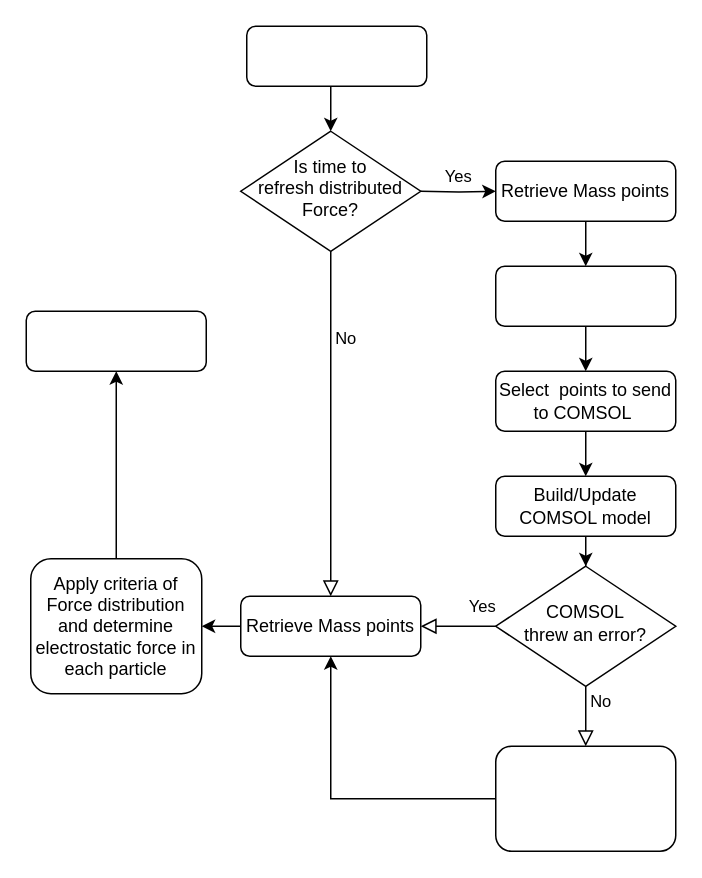
Some shapes in this 702 by 878 pixel diagram are drawn without their labels. The centre of each missing label's shape, as x and y in pixels:
"Calculate distributed electrostatic force & replace old one" goes at (x=585, y=798).
"Estimate continuous profile of electrodes" goes at (x=585, y=295).
"Finish" goes at (x=115, y=340).
"Start" goes at (x=336, y=55).
